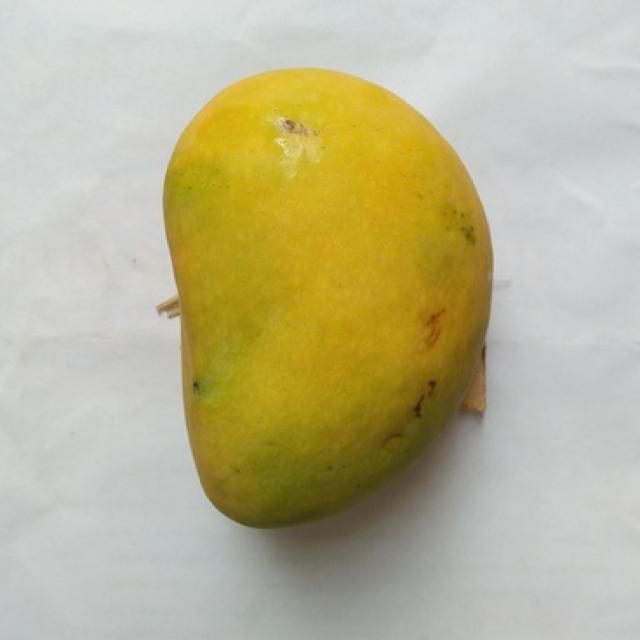Mango: (163, 68, 492, 526)
